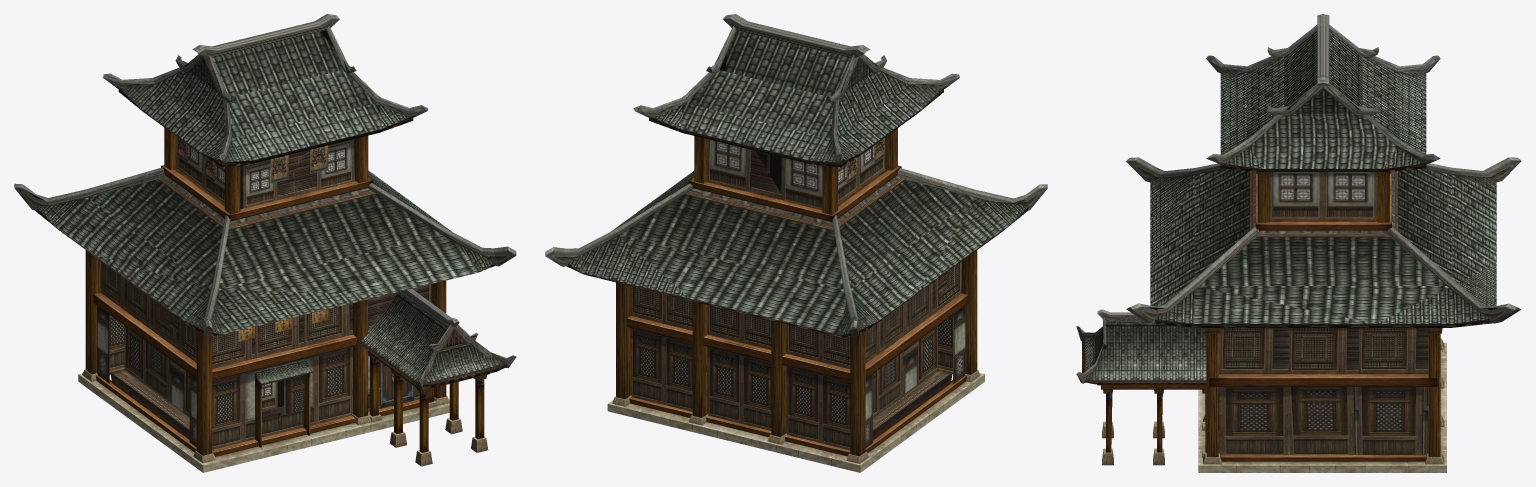
File: b1-011-workhouse_lod_01.fbx
The picture shows the model from 3 angles, left to right: view 1: azimuth 30°, elevation 25°; view 2: azimuth 150°, elevation 25°; view 3: azimuth 270°, elevation 25°; orthographic projection.
Visible parts, largest first — view 1: b1-011-workhouse-01, b1-011-workhouse-02, b1-011-workhouse-03; view 2: b1-011-workhouse-01, b1-011-workhouse-02, b1-011-workhouse-03; view 3: b1-011-workhouse-01, b1-011-workhouse-02, b1-011-workhouse-03.
Part boxes in pixels (x1,y1,x2,y2): b1-011-workhouse-01: (14, 14, 516, 466); b1-011-workhouse-02: (97, 137, 431, 449); b1-011-workhouse-03: (78, 165, 507, 472); b1-011-workhouse-01: (545, 14, 1047, 463); b1-011-workhouse-02: (631, 137, 965, 449); b1-011-workhouse-03: (607, 165, 984, 472); b1-011-workhouse-01: (1076, 14, 1521, 465); b1-011-workhouse-02: (1218, 172, 1428, 454); b1-011-workhouse-03: (1082, 171, 1446, 472).
Bounding box in the file's own units: 19.35 × 21.77 × 24.04.
